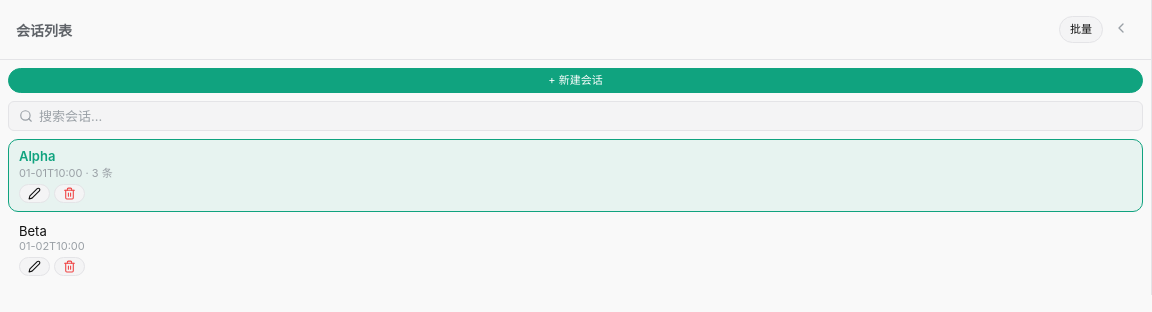
Test: SessionList › 搜索过滤
The width and height of the screenshot is (1152, 312).
Type "beta" into the field with placeholder "搜索会话..." at {"x": 586, "y": 116}, box [39,104,1132,128]
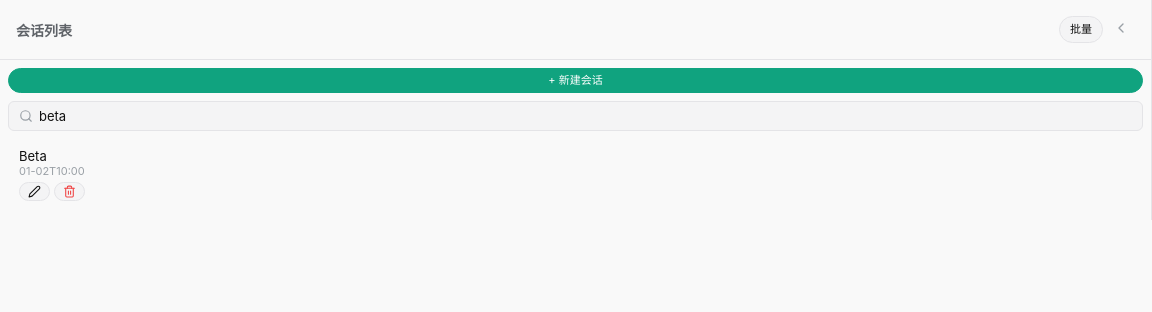
Expected: the text "Beta" is shown, [19,148,47,164]
Now the number of elements with class "session-item" is 1, box [19,148,85,201]
